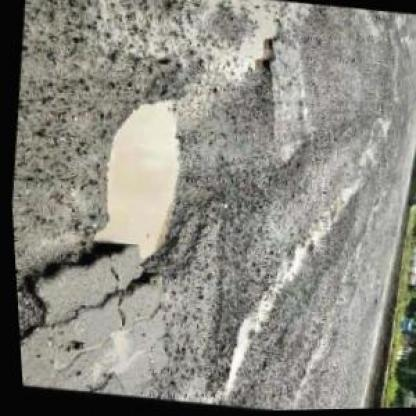pothole: (72, 90, 203, 300)
